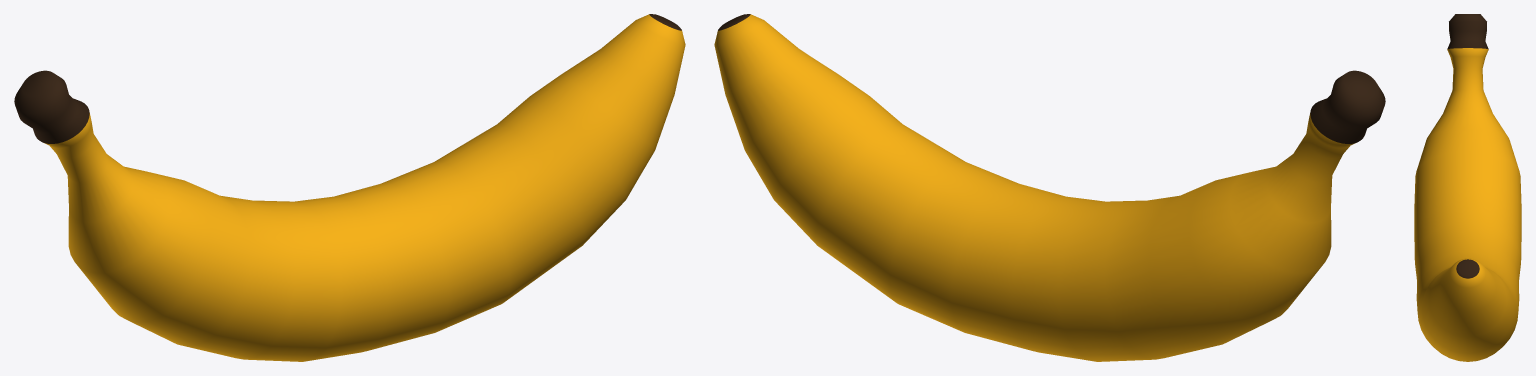
Rendered from Banane.fbx.
3 views of the same model, side by side, from view 1: azimuth 30°, elevation 25°; view 2: azimuth 150°, elevation 25°; view 3: azimuth 270°, elevation 25° (orthographic). The views are drawn at different scales.
Visible parts, largest first — view 1: Cylinder; view 2: Cylinder; view 3: Cylinder.
Boxes of the visible parts, x1,y1,x2,y2 form: Cylinder: (14, 14, 685, 361); Cylinder: (714, 14, 1385, 361); Cylinder: (1414, 14, 1521, 361).
Size of the model in its own units: 698 by 348 by 153.
